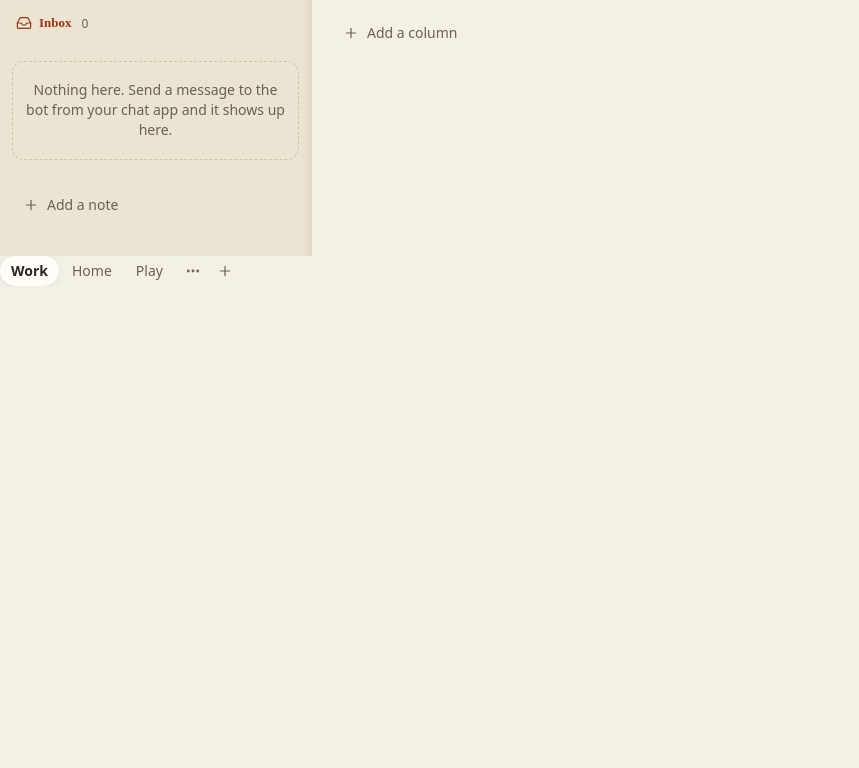
moving pages through the menu › puts the page back and says so when the server refuses
Click the button named "Page options". click: {"x": 193, "y": 271}
box: [178,256,208,286]
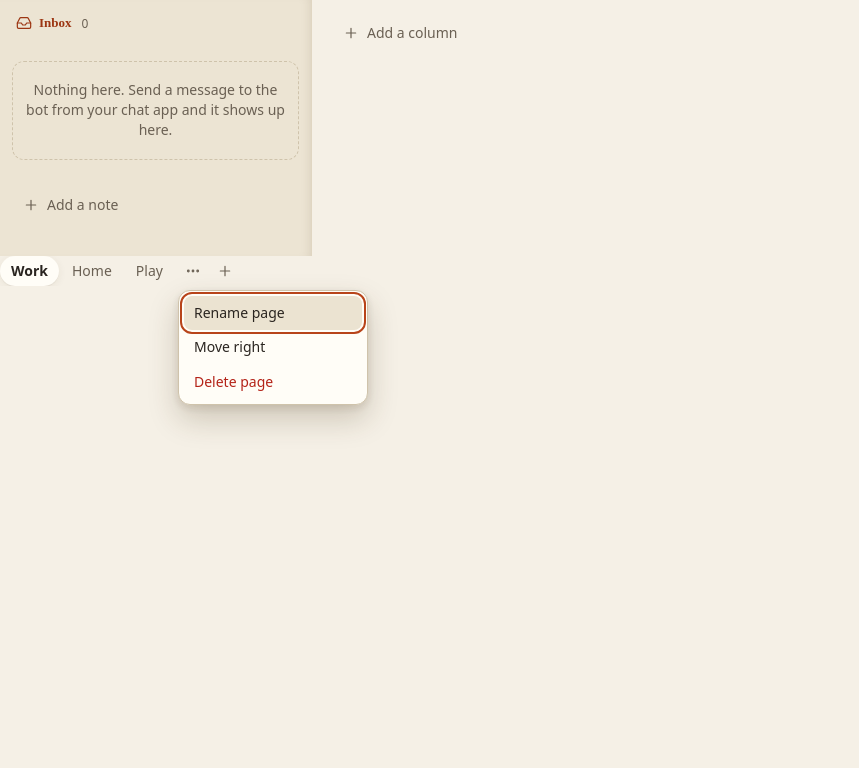
Click the menu item "Move right". click: {"x": 273, "y": 347}
box: [184,330,362,365]
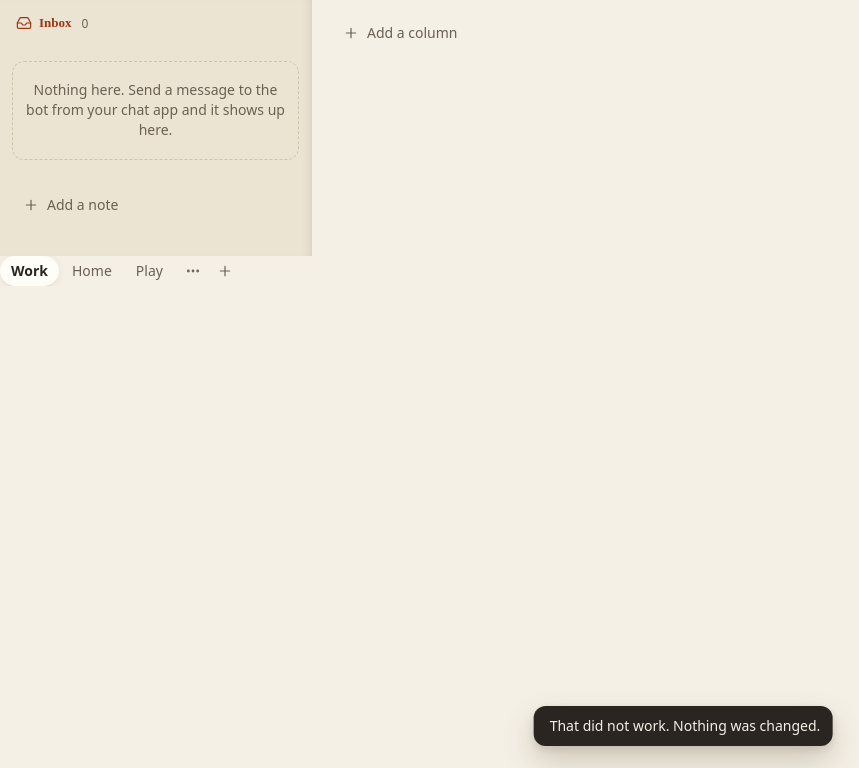
Expected: the text "That did not work. Nothing was changed." is shown, [550,716,820,736]
